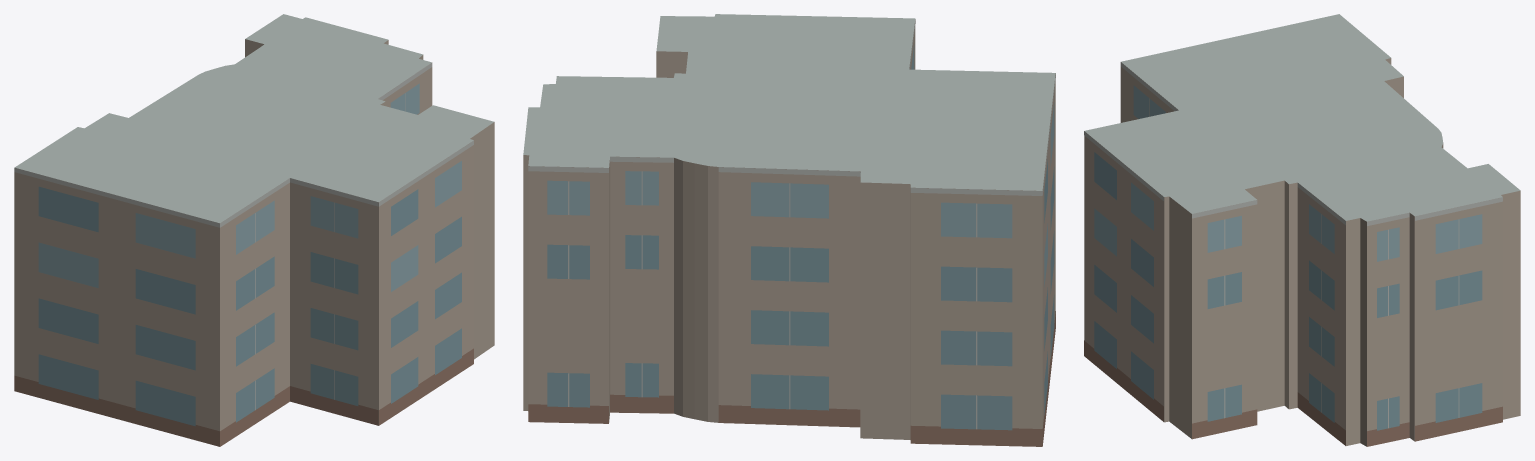
Rendered from survey-upis-32800744.glb.
3 renders of one model, left to right at view 1: azimuth 30°, elevation 25°; view 2: azimuth 150°, elevation 25°; view 3: azimuth 270°, elevation 25°, orthographic. The views are drawn at different scales.
Parts seen in each view (by area): view 1: survey-upis-32800744.tmp; view 2: survey-upis-32800744.tmp; view 3: survey-upis-32800744.tmp.
Boxes of the visible parts, box(x1,y1,x2,y2) form: survey-upis-32800744.tmp: box(14, 14, 494, 446); survey-upis-32800744.tmp: box(523, 14, 1055, 446); survey-upis-32800744.tmp: box(1084, 14, 1520, 446).
Size of the model in its own units: 24.04 by 12.15 by 21.36.
